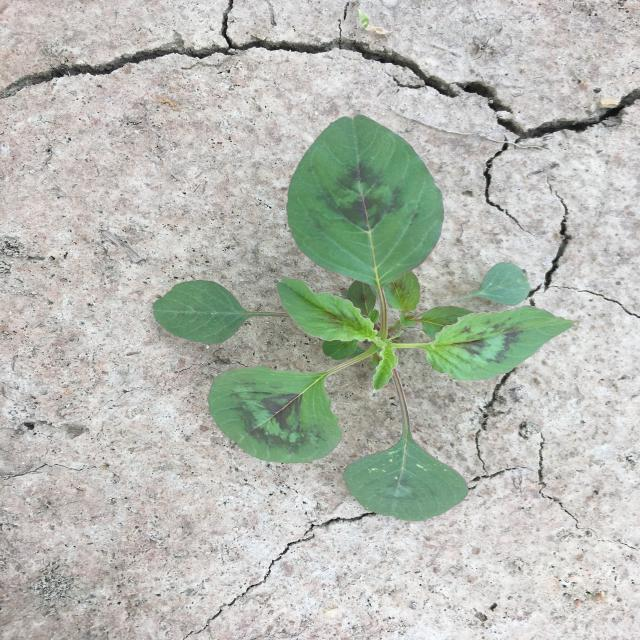PalmerAmaranth: (152, 114, 578, 522)
